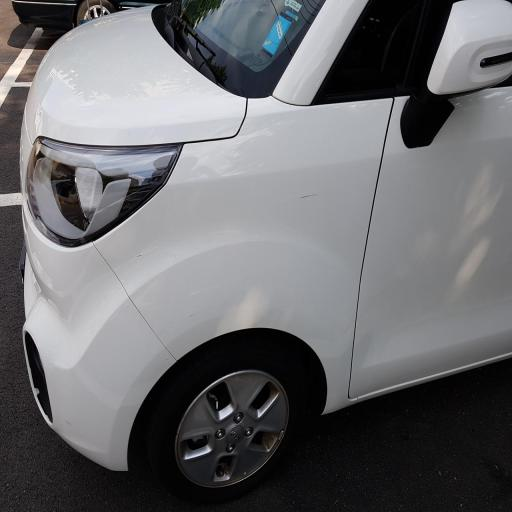broken: (84, 213, 191, 381)
